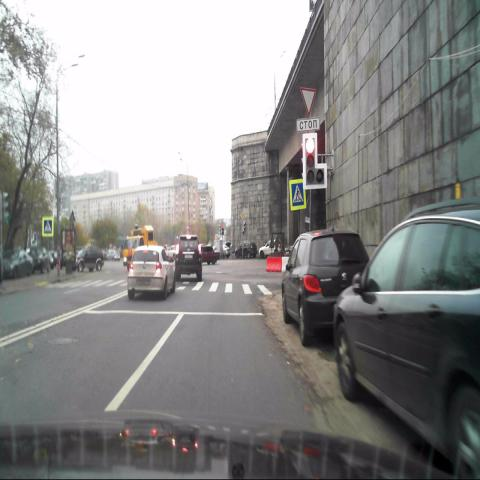2_4: (300, 86, 316, 116)
